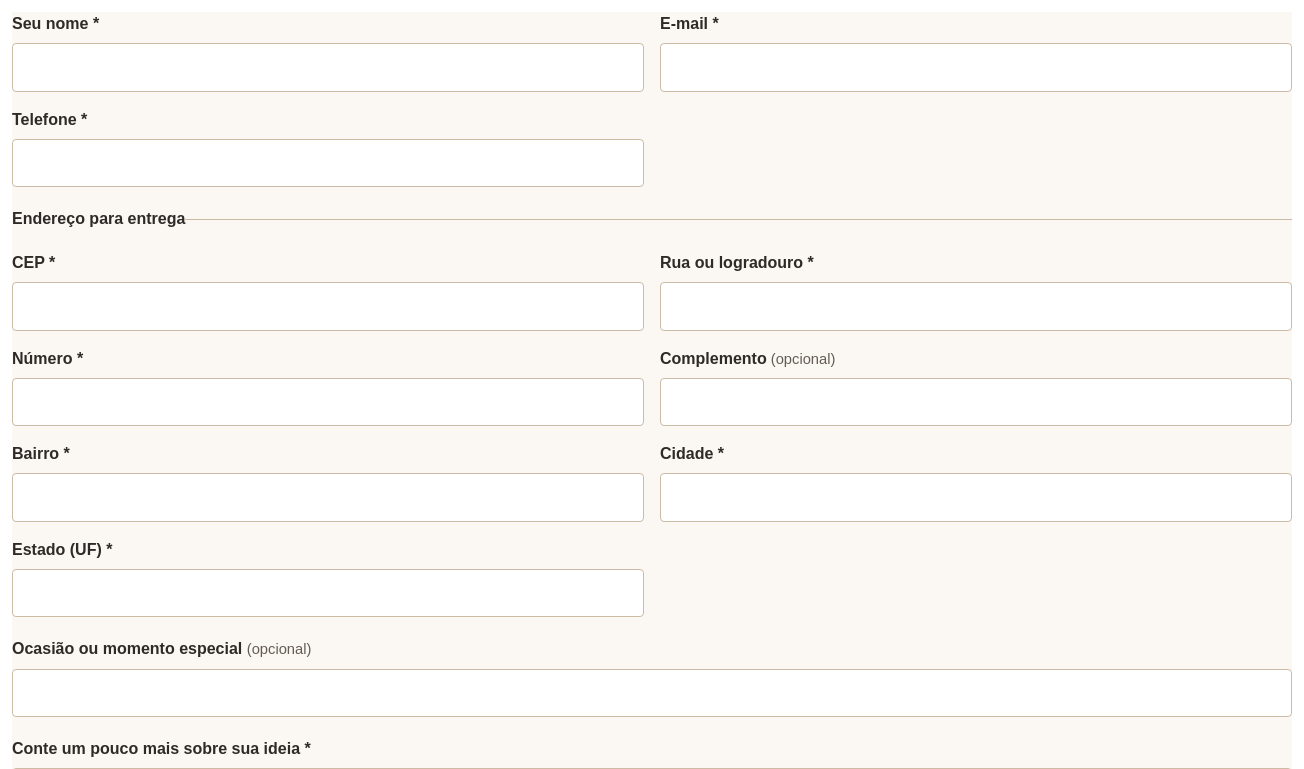
InquiryForm › permite preencher o endereço manualmente quando a busca do CEP falha
The width and height of the screenshot is (1304, 769).
Type "Rua Manual" into the field labelled "Rua ou logradouro *". click: (976, 306)
box: [660, 282, 1292, 331]
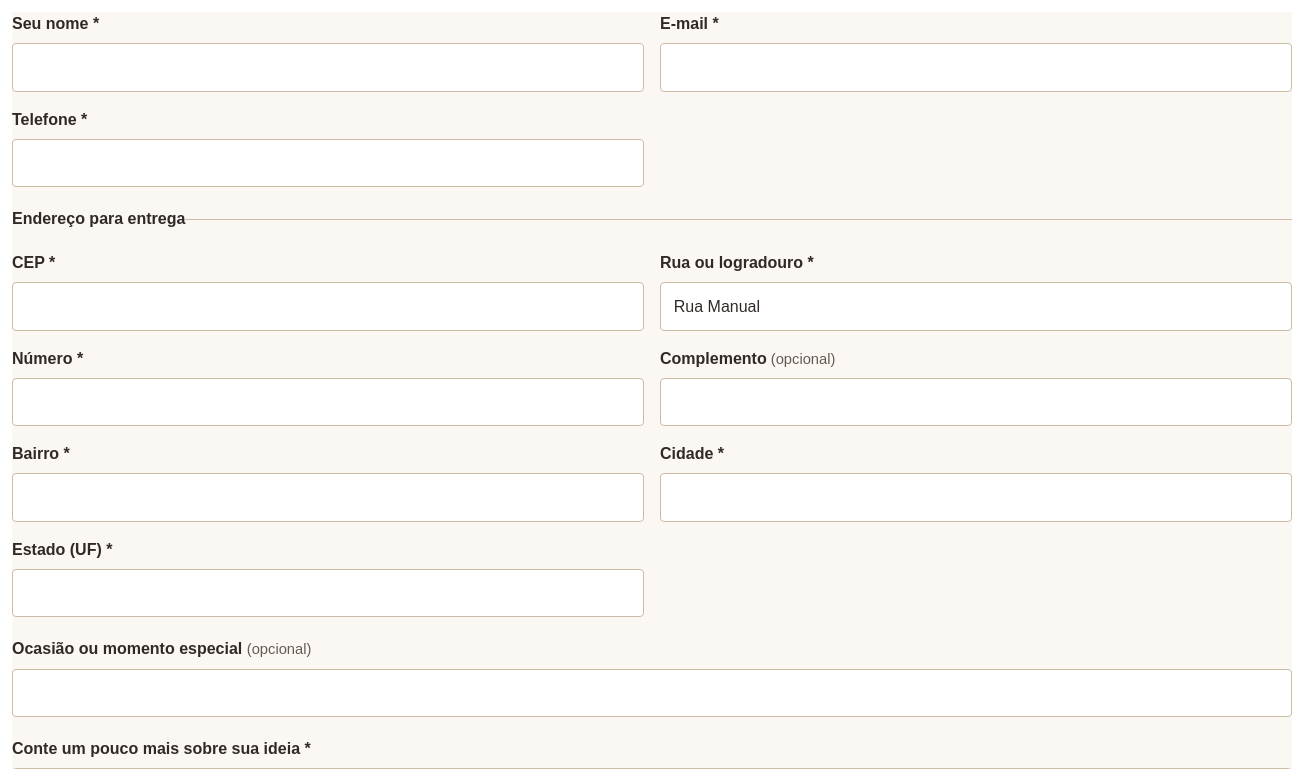
Type "01001-000" into the field labelled "CEP *". click: (328, 306)
box: [12, 282, 644, 331]
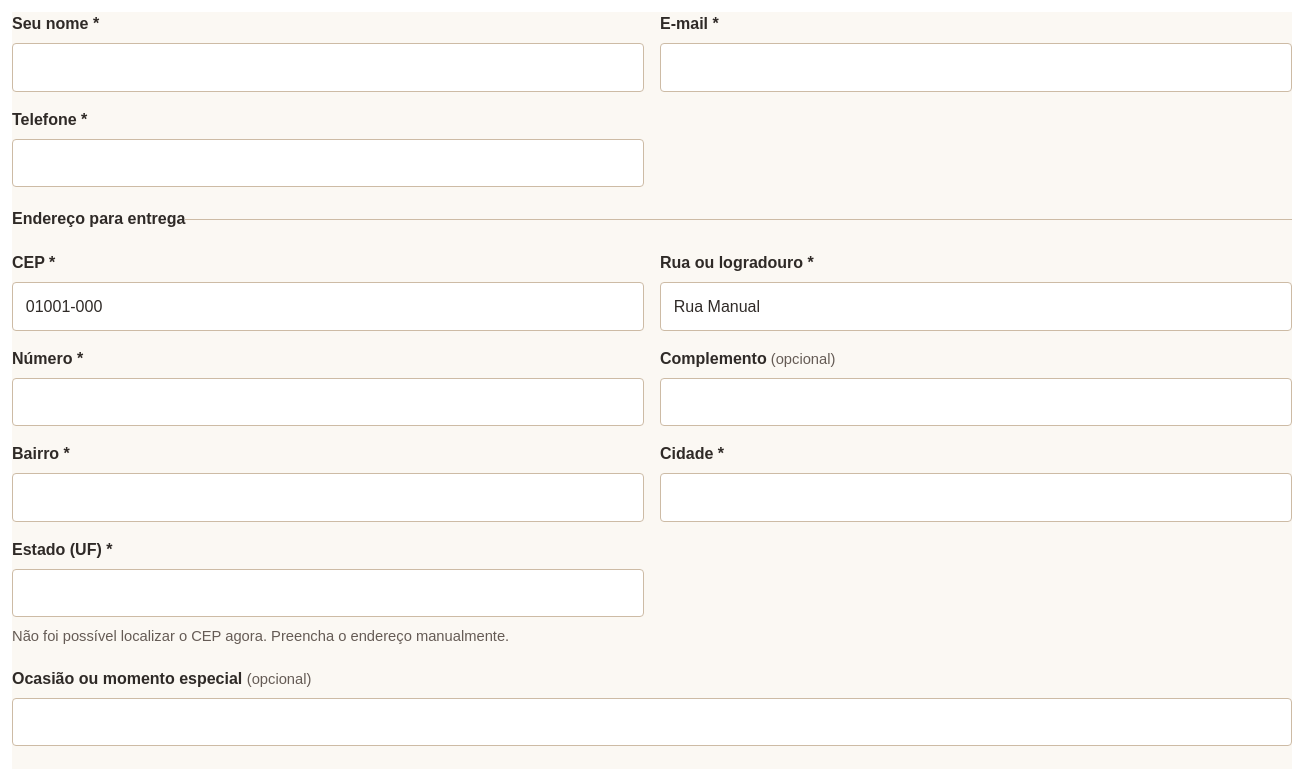
Result: the text "Não foi possível localizar o CEP agora. Preencha o endereço manualmente." is shown at [12, 628, 509, 644]
